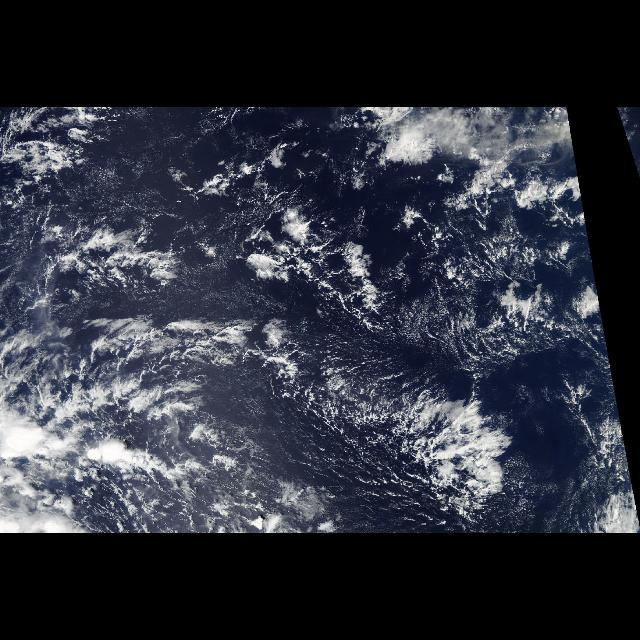Fish: (239, 326, 523, 522)
Gravel: (273, 166, 593, 526), (50, 228, 202, 306)
Sugar: (391, 252, 555, 384)
